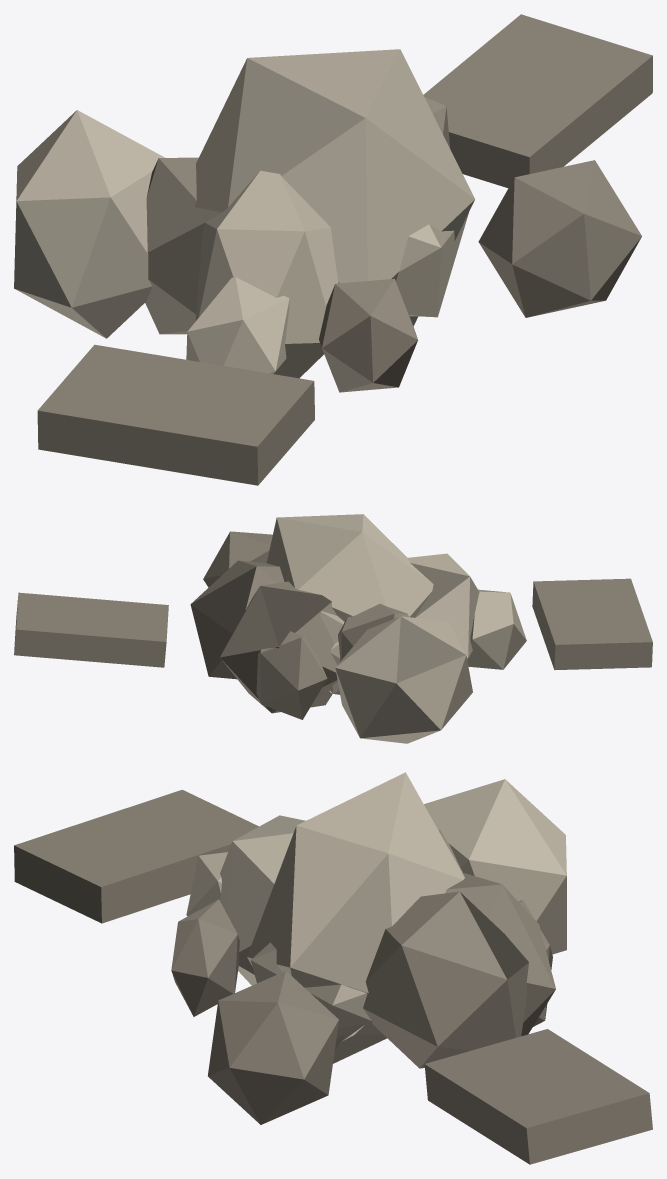
The model's file is resource_stone.glb.
3 renders of one model, top to bottom at view 1: azimuth 30°, elevation 25°; view 2: azimuth 150°, elevation 25°; view 3: azimuth 270°, elevation 25°, orthographic. The views are drawn at different scales.
Visible parts, largest first — view 1: resource_stone; view 2: resource_stone; view 3: resource_stone.
Part boxes in pixels (x1,y1,x2,y2): resource_stone: (14, 14, 652, 485); resource_stone: (14, 514, 652, 743); resource_stone: (14, 772, 652, 1164).
Size of the model in its own units: 5.12 by 1.72 by 3.87.
